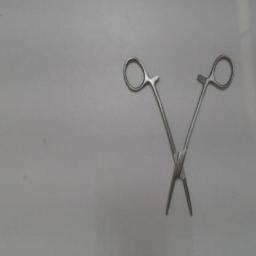Mayo Needle Holder: (118, 49, 238, 223)
